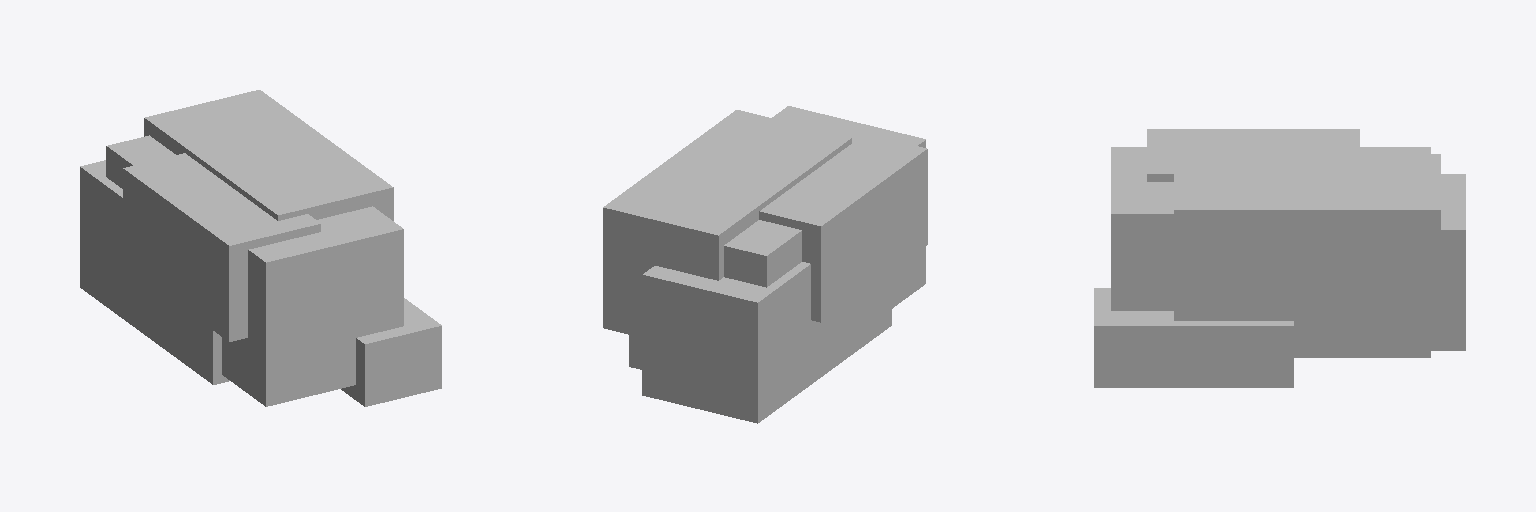
The model's file is asteroid 3.obj.
3 views of the same model, side by side, from view 1: azimuth 30°, elevation 25°; view 2: azimuth 150°, elevation 25°; view 3: azimuth 270°, elevation 25° (orthographic).
Parts seen in each view (by area): view 1: asteroid_1; view 2: asteroid_1; view 3: asteroid_1.
Boxes of the visible parts, <box> form: asteroid_1: <box>80,90,441,406</box>; asteroid_1: <box>603,106,927,423</box>; asteroid_1: <box>1094,129,1465,387</box>.
Size of the model in its own units: 5.37 by 4.79 by 9.3.